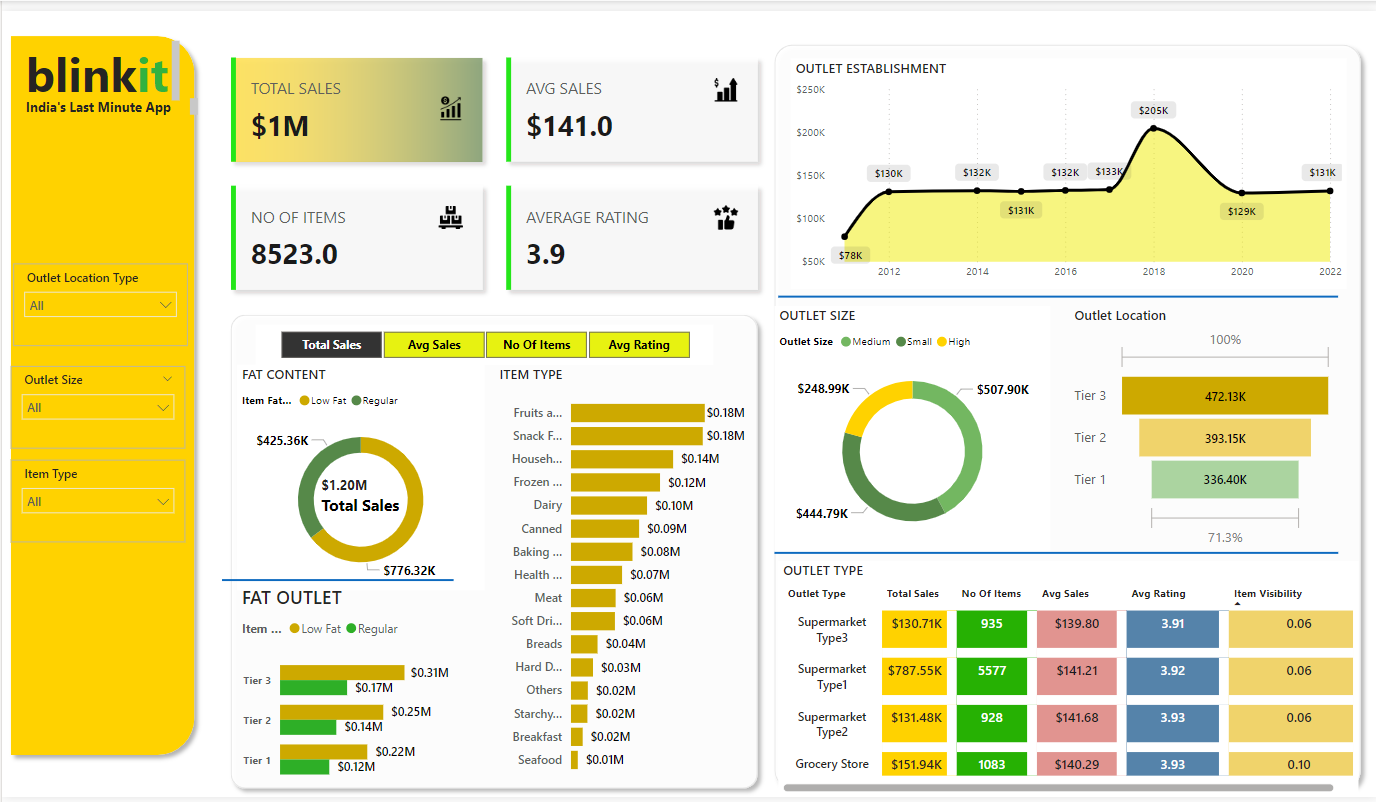

The dashboard page shown, as its layout file describes it:
{"tool":"powerbi","page":{"name":"Page 1","canvas":[1400,800],"ordinal":0},"visuals":[{"type":"shape","box":[0,16.1,204.7,749.4],"z":0},{"type":"textbox","box":[19.5,25.5,166.6,72],"z":1000},{"type":"textbox","box":[0,84,204.1,27],"z":2000},{"type":"cardVisual","fields":{"Data":["BlinkIT Grocery Data.Total Sales","BlinkIT Grocery Data.Avg Sales","BlinkIT Grocery Data.No Of Items","BlinkIT Grocery Data.Avgerage Rating"]},"box":[216.1,30,570.3,270.2],"z":3000},{"type":"shape","box":[223.6,300.2,553.8,499.8],"z":4000},{"type":"donutChart","title":"FAT CONTENT","fields":{"Y":["BlinkIT Grocery Data.Total Sales"],"Category":["BlinkIT Grocery Data.Item Fat Content"]},"box":[238.6,360.2,252.1,229.6],"z":5000},{"type":"slicer","fields":{"Values":["Metrics.Metrics"]},"box":[258.1,319.7,465.3,40.5],"z":6000},{"type":"cardVisual","fields":{"Data":["BlinkIT Grocery Data.Total Sales"]},"box":[307.7,456.3,114.1,67.5],"z":7000},{"type":"clusteredBarChart","title":"FAT OUTLET","fields":{"Y":["BlinkIT Grocery Data.Total Sales"],"Category":["BlinkIT Grocery Data.Outlet Location Type"],"Series":["BlinkIT Grocery Data.Item Fat Content"]},"box":[238.6,583.8,220.6,216.1],"z":8000},{"type":"shape","box":[223.6,568.8,235.6,21],"z":9000},{"type":"barChart","title":"ITEM TYPE","fields":{"Y":["BlinkIT Grocery Data.Total Sales"],"Category":["BlinkIT Grocery Data.Item Type"]},"box":[501.3,360.2,259.6,426.2],"z":10000},{"type":"shape","box":[777.1,25.4,614.3,774.5],"z":11000},{"type":"lineChart","title":"OUTLET ESTABLISHMENT","fields":{"Category":["BlinkIT Grocery Data.Outlet Establishment Year"],"Y":["BlinkIT Grocery Data.Total Sales"]},"box":[802.5,48.3,566,234],"z":12000},{"type":"donutChart","title":"OUTLET SIZE","fields":{"Y":["BlinkIT Grocery Data.Total Sales"],"Category":["BlinkIT Grocery Data.Outlet Size"]},"box":[786,300.1,281.1,250.5],"z":13000},{"type":"funnel","title":" Outlet Location ","fields":{"Y":["Sum(BlinkIT Grocery Data.Sales)"],"Category":["BlinkIT Grocery Data.Outlet Location Type"]},"box":[1086.1,300.1,273.4,250.5],"z":14000},{"type":"shape","box":[789.8,282.3,569.8,16.5],"z":15000},{"type":"pivotTable","title":"OUTLET TYPE","fields":{"Rows":["BlinkIT Grocery Data.Outlet Type"],"Values":["BlinkIT Grocery Data.Total Sales","BlinkIT Grocery Data.No Of Items","BlinkIT Grocery Data.Avg Sales","BlinkIT Grocery Data.Avg Rating","Avg(BlinkIT Grocery Data.Item Visibility)"]},"box":[789.8,559.6,590.1,240.4],"z":16000},{"type":"shape","box":[786,543.1,573.6,16.5],"z":17000},{"type":"slicer","fields":{"Values":["BlinkIT Grocery Data.Outlet Location Type"]},"box":[11.2,256.8,177.4,84.4],"z":17001},{"type":"slicer","fields":{"Values":["BlinkIT Grocery Data.Outlet Size"]},"box":[8.7,361,177.4,84.4],"z":17002},{"type":"slicer","fields":{"Values":["BlinkIT Grocery Data.Item Type"]},"box":[8.7,456.6,177.4,84.4],"z":17003}]}

Visuals, with their boxes in screenshot pixels (x1, y1, x2, y2), scaled from the page's 1400x800 canvas onto the 1376x802 screenshot:
shape: [left=0, top=16, right=201, bottom=767]
textbox: [left=19, top=26, right=183, bottom=98]
textbox: [left=0, top=84, right=201, bottom=111]
cardVisual - BlinkIT Grocery Data.Total Sales x BlinkIT Grocery Data.Avg Sales: [left=212, top=30, right=773, bottom=301]
shape: [left=220, top=301, right=764, bottom=801]
"FAT CONTENT" donutChart: [left=235, top=361, right=482, bottom=591]
slicer - Metrics.Metrics: [left=254, top=320, right=711, bottom=361]
cardVisual - BlinkIT Grocery Data.Total Sales: [left=302, top=457, right=415, bottom=525]
"FAT OUTLET" clusteredBarChart: [left=235, top=585, right=451, bottom=801]
shape: [left=220, top=570, right=451, bottom=591]
"ITEM TYPE" barChart: [left=493, top=361, right=748, bottom=788]
shape: [left=764, top=25, right=1368, bottom=801]
"OUTLET ESTABLISHMENT" lineChart: [left=789, top=48, right=1345, bottom=283]
"OUTLET SIZE" donutChart: [left=773, top=301, right=1049, bottom=552]
" Outlet Location " funnel: [left=1067, top=301, right=1336, bottom=552]
shape: [left=776, top=283, right=1336, bottom=300]
"OUTLET TYPE" pivotTable: [left=776, top=561, right=1356, bottom=801]
shape: [left=773, top=544, right=1336, bottom=561]
slicer - BlinkIT Grocery Data.Outlet Location Type: [left=11, top=257, right=185, bottom=342]
slicer - BlinkIT Grocery Data.Outlet Size: [left=9, top=362, right=183, bottom=447]
slicer - BlinkIT Grocery Data.Item Type: [left=9, top=458, right=183, bottom=542]
